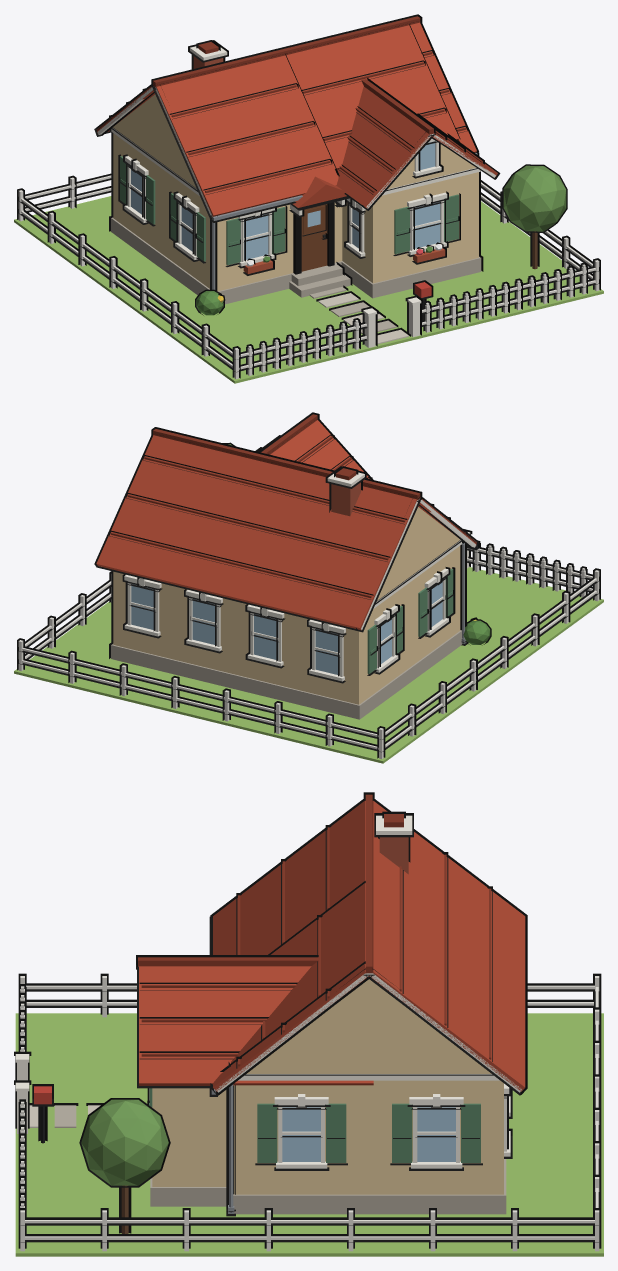
The model's file is MustakilEv_avrupa_3_3.fbx.
3 views of the same model, one above another, from view 1: azimuth 30°, elevation 25°; view 2: azimuth 150°, elevation 25°; view 3: azimuth 270°, elevation 25° (orthographic). The views are drawn at different scales.
Parts seen in each view (by area): view 1: MustakilEv_avrupa_3_3; view 2: MustakilEv_avrupa_3_3; view 3: MustakilEv_avrupa_3_3.
Part boxes in pixels (<box>): MustakilEv_avrupa_3_3: <box>14,14,603,383</box>; MustakilEv_avrupa_3_3: <box>14,412,603,763</box>; MustakilEv_avrupa_3_3: <box>14,792,603,1256</box>.
Bounding box in the file's own units: 12.55 × 6.68 × 12.97.
